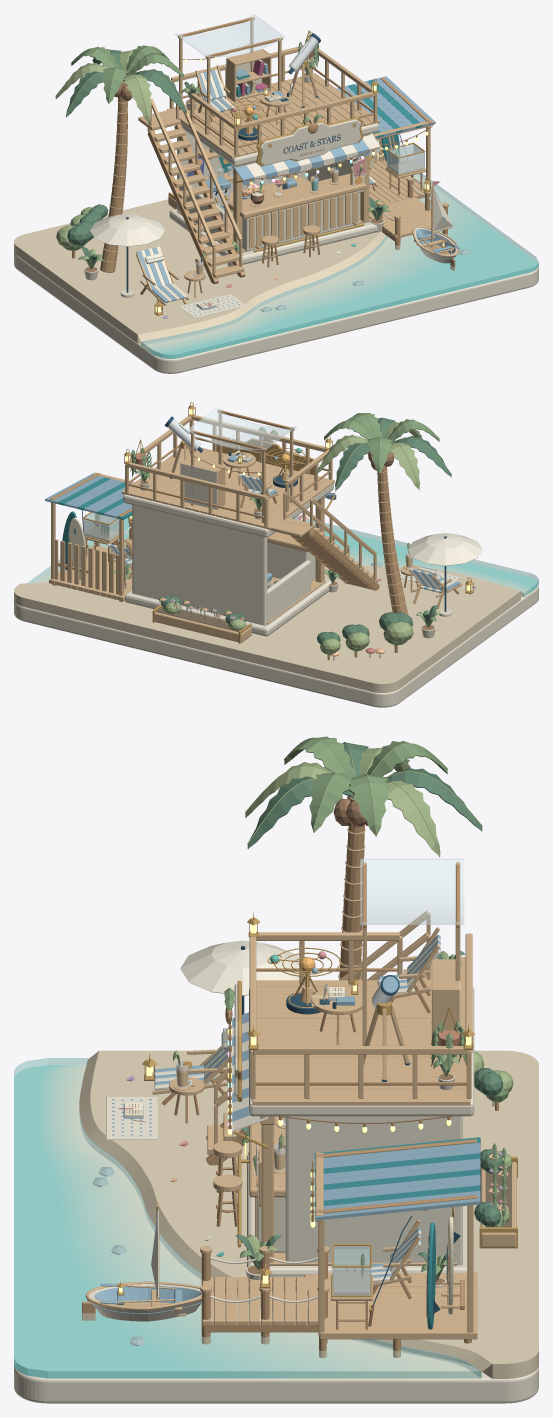
The model's file is midnight_coast_v3.glb.
3 renders of one model, top to bottom at view 1: azimuth 30°, elevation 25°; view 2: azimuth 150°, elevation 25°; view 3: azimuth 270°, elevation 25°, orthographic. The views are drawn at different scales.
Visible parts, largest first — view 1: BeachSand, ShallowSeabed, WaterSurface, Building, TerraceStructure, DisplayPlinth, ExteriorStaircase, CoastalShelter, WaterVolume, PartialTerraceCanopy, ShopSign, ShorelineSlope (+24 smaller); view 2: BeachSand, Building, TerraceStructure, DisplayPlinth, CoastalShelter, ExteriorStaircase, PartialTerraceCanopy, WaterSurface, ShallowSeabed, GardenShrubs, BeachUmbrella, PalmTrunk (+22 smaller); view 3: ShallowSeabed, WaterSurface, BeachSand, TerraceStructure, Building, CoastalShelter, DisplayPlinth, PartialTerraceCanopy, Pier, WaterVolume, ShorelineSlope, BeachUmbrella (+32 smaller).
Boxes of the visible parts, box(x1,y1,x2,y2) form: BeachSand: box(14, 153, 402, 343); ShallowSeabed: box(142, 174, 538, 358); WaterSurface: box(142, 173, 538, 354); Building: box(169, 129, 378, 264); TerraceStructure: box(167, 46, 379, 166); DisplayPlinth: box(14, 236, 538, 373); ExteriorStaircase: box(138, 92, 245, 283); CoastalShelter: box(336, 76, 435, 207); WaterVolume: box(141, 173, 538, 358); PartialTerraceCanopy: box(175, 14, 285, 130); ShopSign: box(256, 114, 363, 166); ShorelineSlope: box(138, 158, 404, 341); BeachSand: box(14, 565, 520, 692); Building: box(125, 495, 331, 636); TerraceStructure: box(122, 415, 334, 537); DisplayPlinth: box(14, 584, 538, 707); CoastalShelter: box(45, 472, 134, 601); ExteriorStaircase: box(255, 491, 379, 590); PartialTerraceCanopy: box(186, 407, 296, 522); WaterSurface: box(28, 516, 538, 592); ShallowSeabed: box(33, 517, 538, 596); GardenShrubs: box(160, 596, 413, 660); BeachUmbrella: box(408, 533, 482, 616); PalmTrunk: box(377, 466, 408, 614); ShallowSeabed: box(14, 1065, 480, 1378); WaterSurface: box(14, 1058, 480, 1370); BeachSand: box(90, 1050, 538, 1378); TerraceStructure: box(249, 932, 474, 1116); Building: box(237, 1116, 467, 1281); CoastalShelter: box(314, 1137, 480, 1339); DisplayPlinth: box(14, 1114, 538, 1403); PartialTerraceCanopy: box(360, 858, 464, 1045); Pier: box(200, 1246, 329, 1344); WaterVolume: box(14, 1058, 481, 1378); ShorelineSlope: box(79, 1051, 492, 1372); BeachUmbrella: box(180, 940, 299, 1014).
Bounding box in the file's own units: 12.04 × 6.94 × 8.5.
